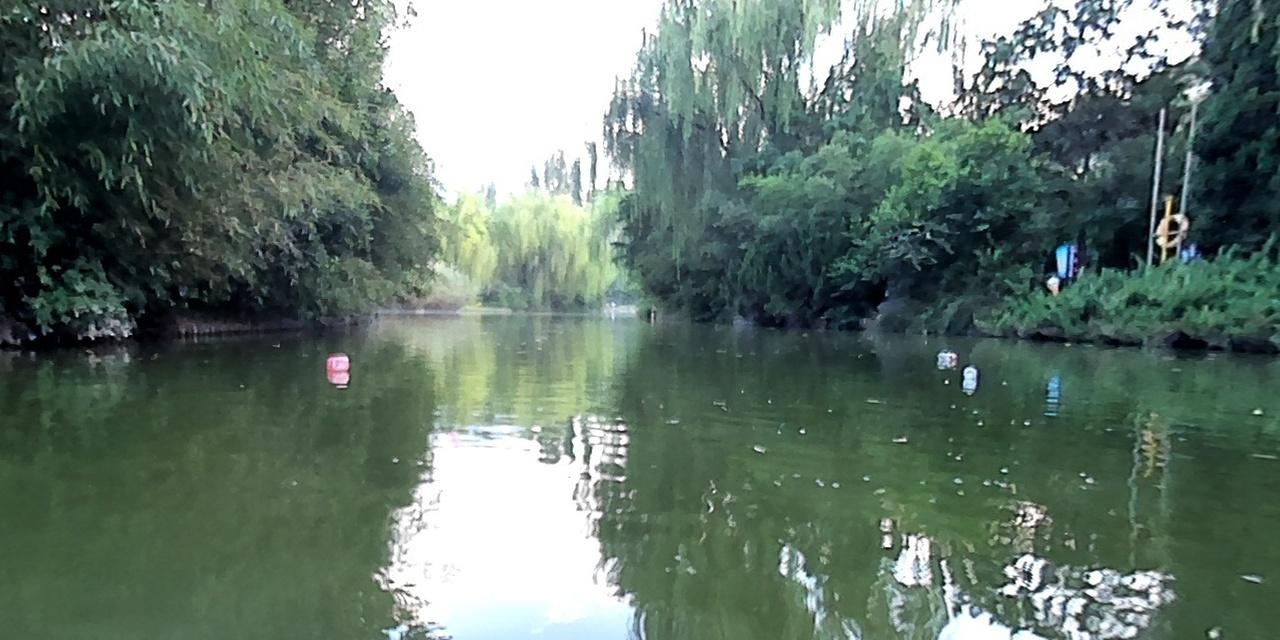bottle: (323, 354, 350, 371), (937, 351, 953, 364), (964, 365, 976, 380)
